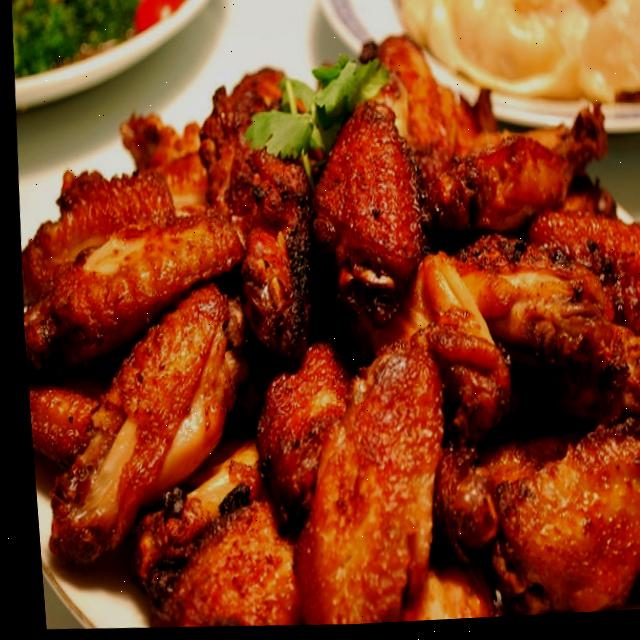鸡肉料理 含炸鸡: (6, 3, 640, 636)
